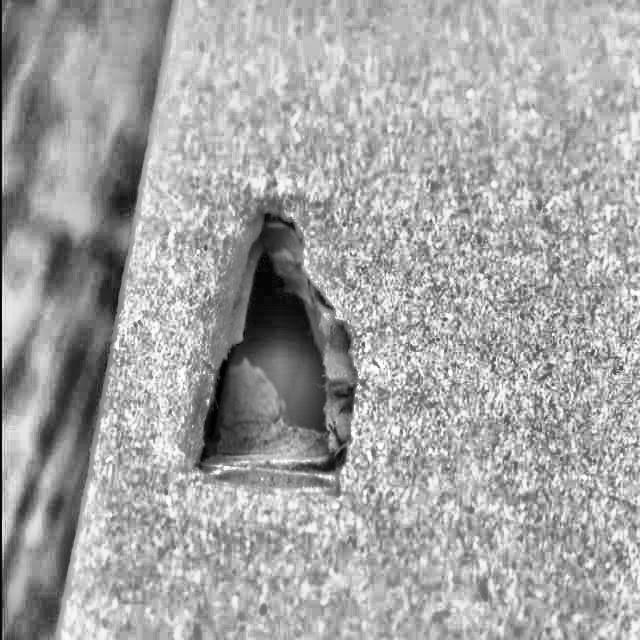box: (60, 0, 640, 640)
hole: (194, 206, 396, 518)
